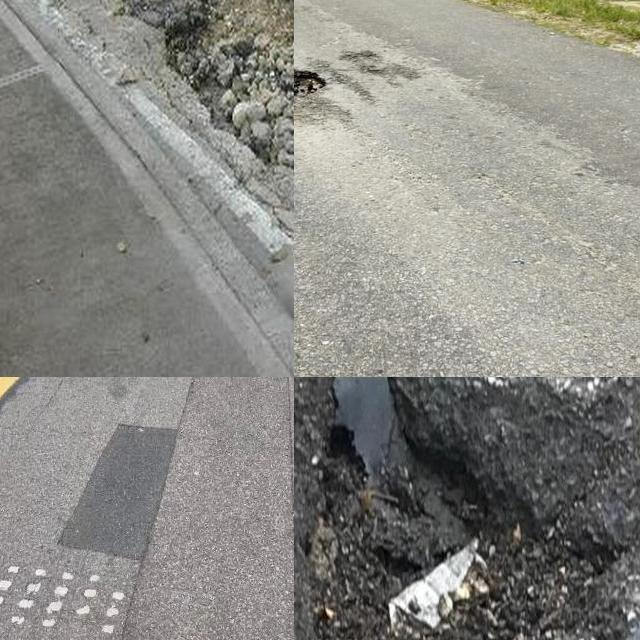Lubang: (294, 377, 613, 640), (174, 0, 294, 170), (294, 65, 334, 100)
Sambungan: (120, 377, 294, 640), (56, 424, 179, 561)
